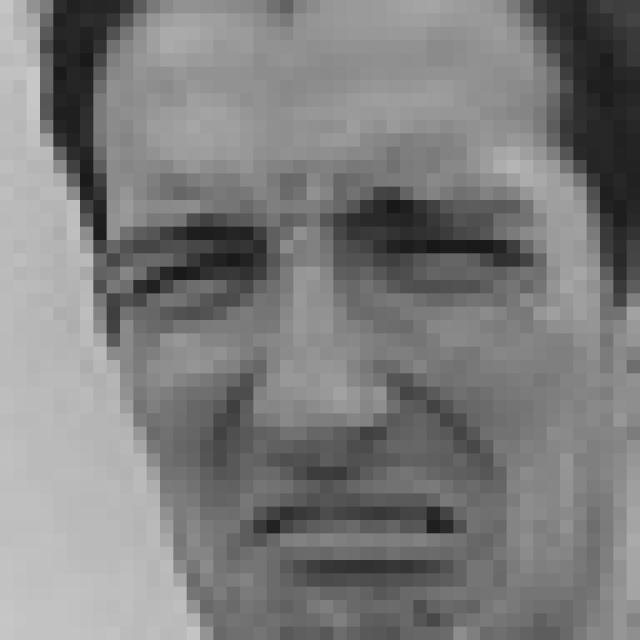disgust: (118, 178, 539, 596)
